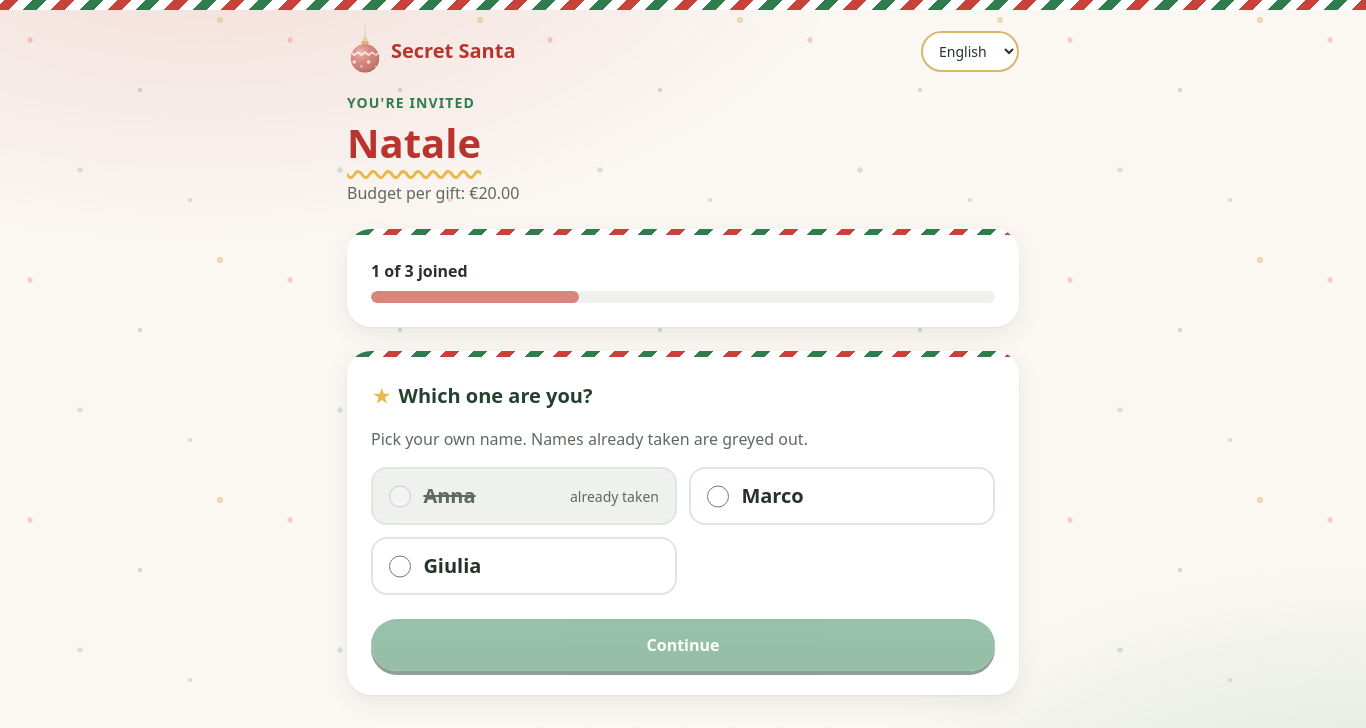
Scenario: join › can go back from the confirmation
This screenshot has width=1366, height=728.
Click the radio button labelled "Giulia" at (400, 566), box x1=389 y1=555 x2=411 y2=578
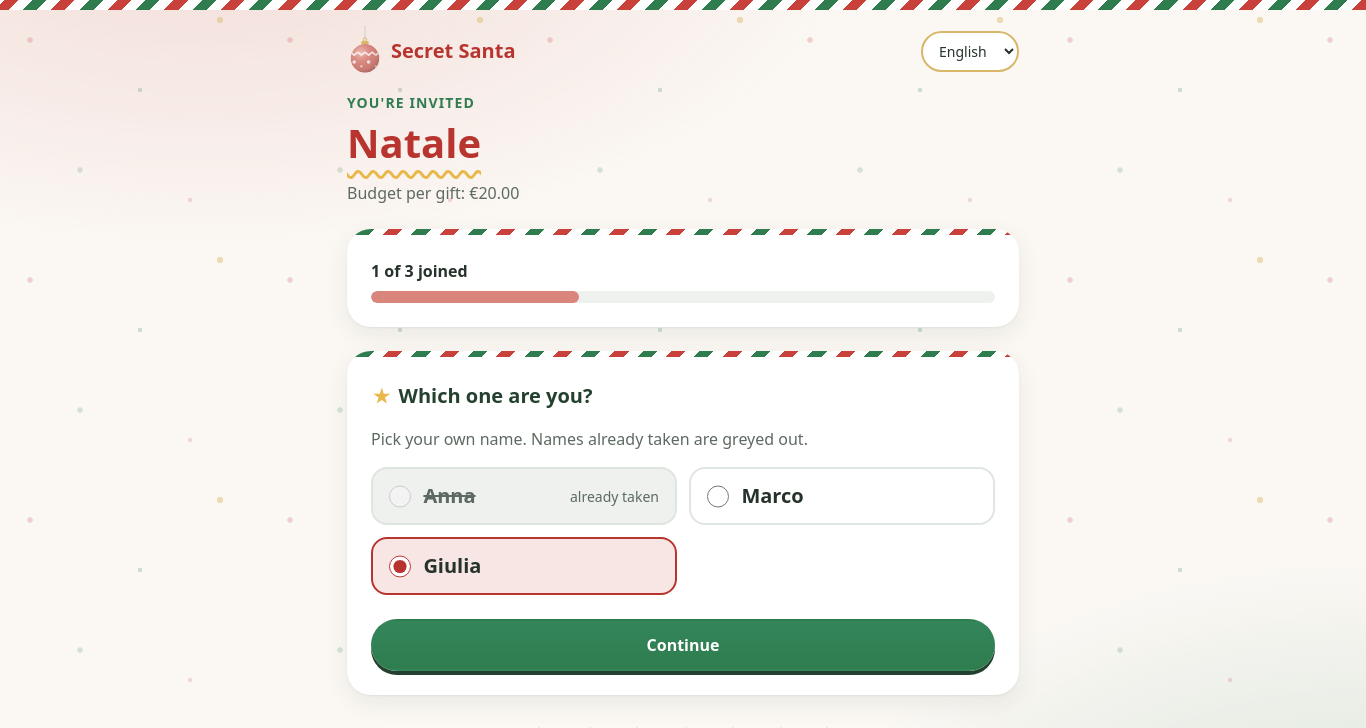
Click the button "Continue" at (683, 645), box x1=371 y1=619 x2=995 y2=671
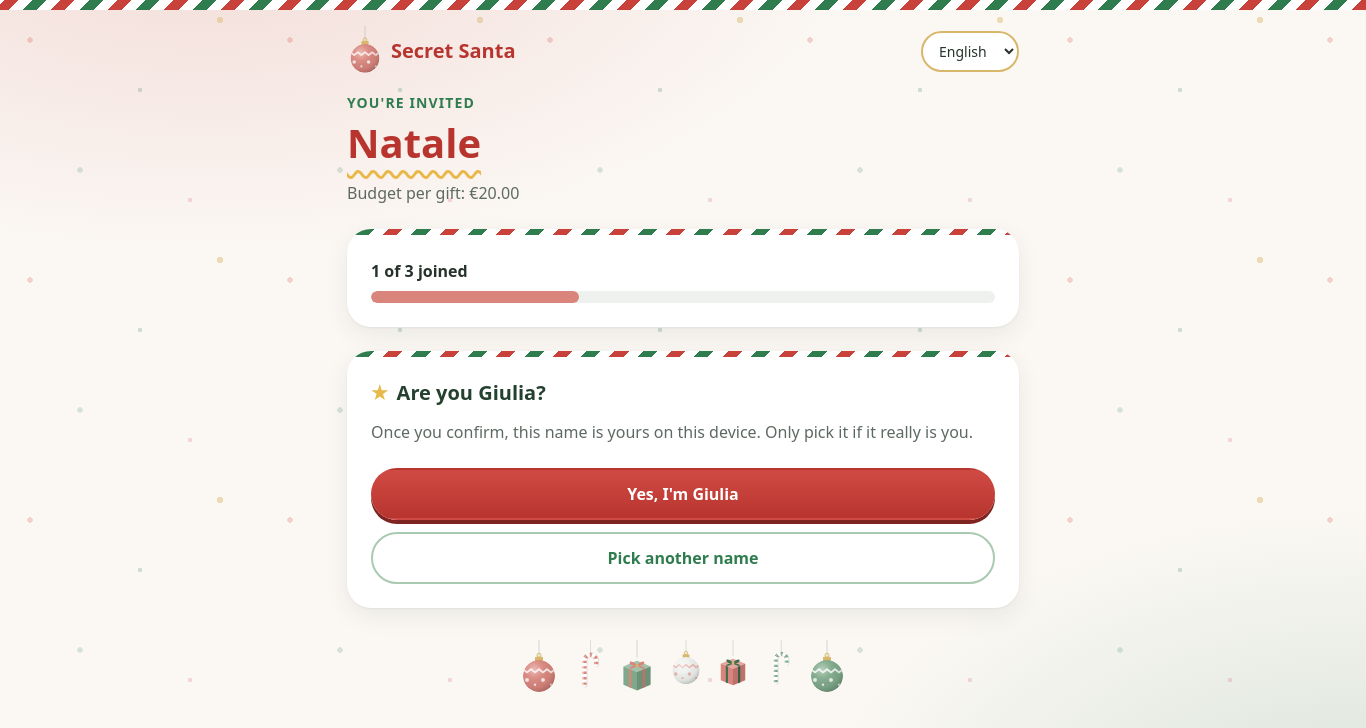
Click the button "Pick another name" at (683, 558), box x1=371 y1=532 x2=995 y2=584
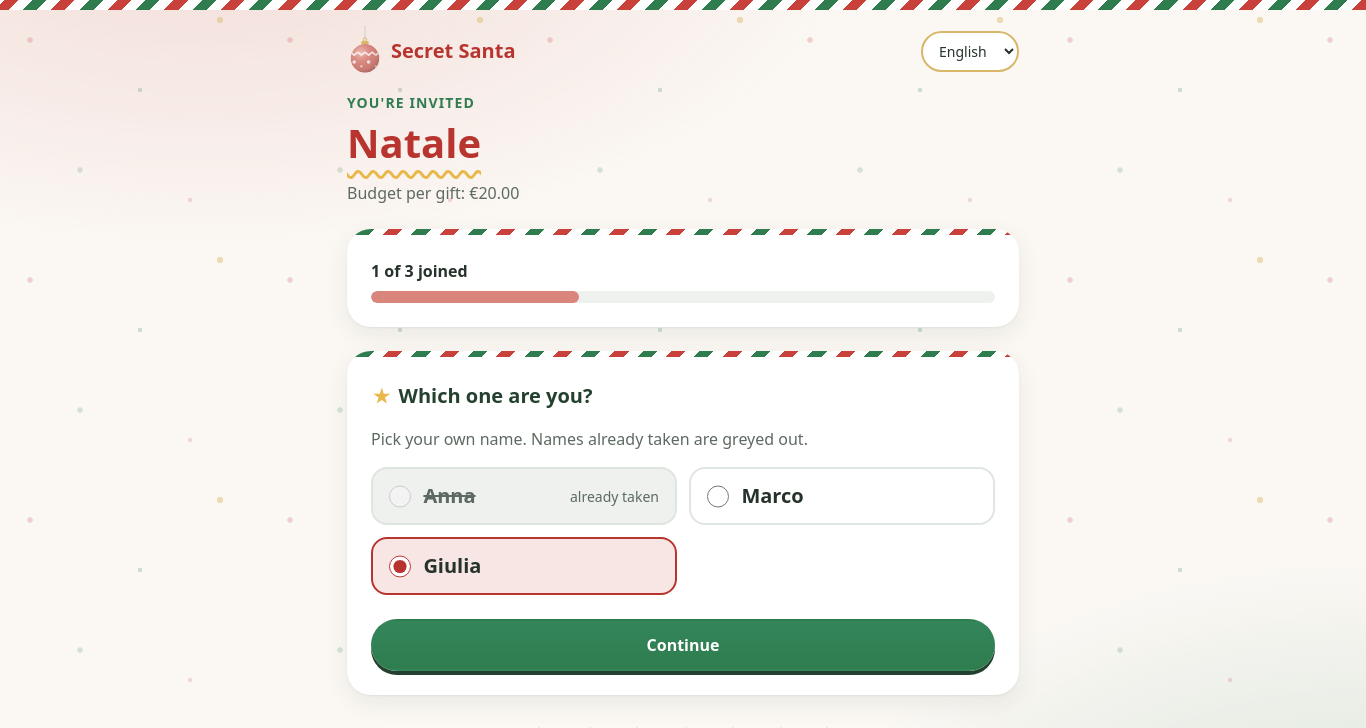
Now the button "Continue" is shown, box x1=371 y1=619 x2=995 y2=671
